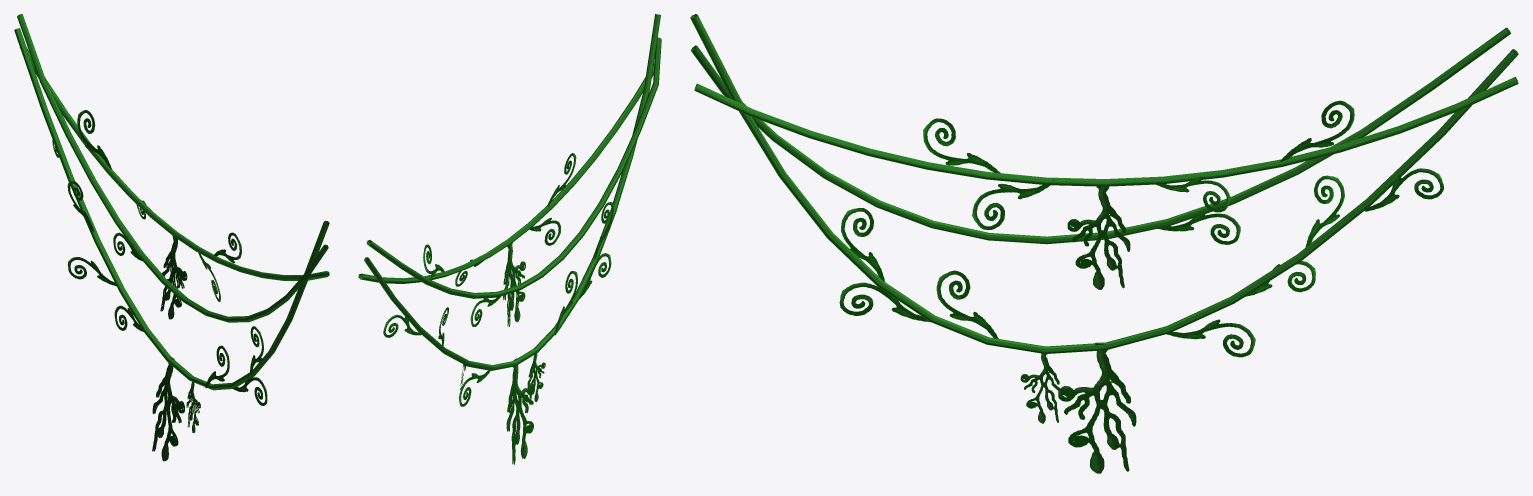
The model's file is Lians.FBX.
3 views of the same model, side by side, from view 1: azimuth 30°, elevation 25°; view 2: azimuth 150°, elevation 25°; view 3: azimuth 270°, elevation 25° (orthographic). The views are drawn at different scales.
Visible parts, largest first — view 1: Lians; view 2: Lians; view 3: Lians.
Boxes of the visible parts, left/top/right/bottom form: Lians: left=14, top=14, right=329, bottom=461; Lians: left=358, top=14, right=661, bottom=464; Lians: left=690, top=14, right=1518, bottom=473.
Size of the model in its own units: 1.49 by 9.95 by 15.72.
Materials: 1 (1 with a texture image).
